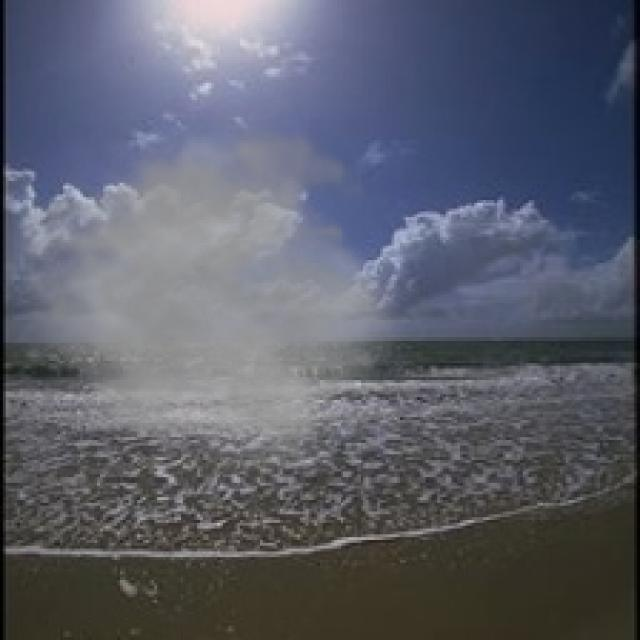smoke: (9, 97, 408, 466)
